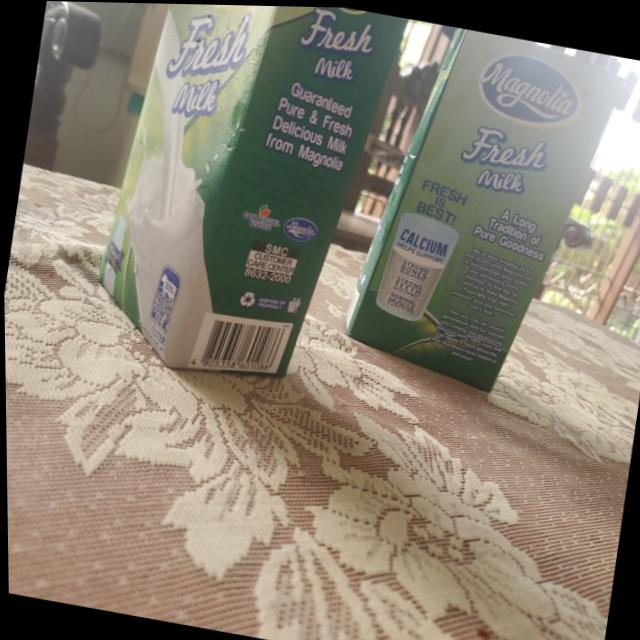milk: (81, 1, 413, 402), (334, 13, 630, 405)
